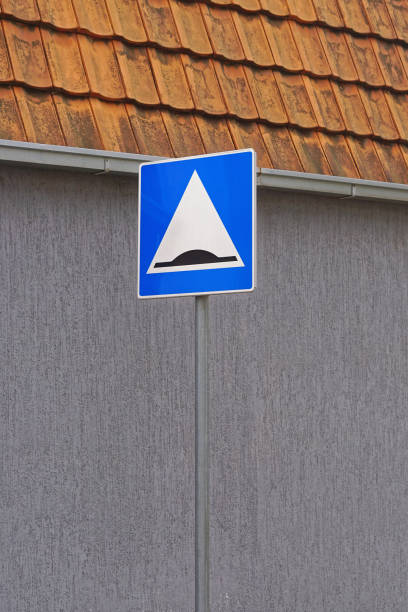speed-breaker: (140, 160, 249, 288)
